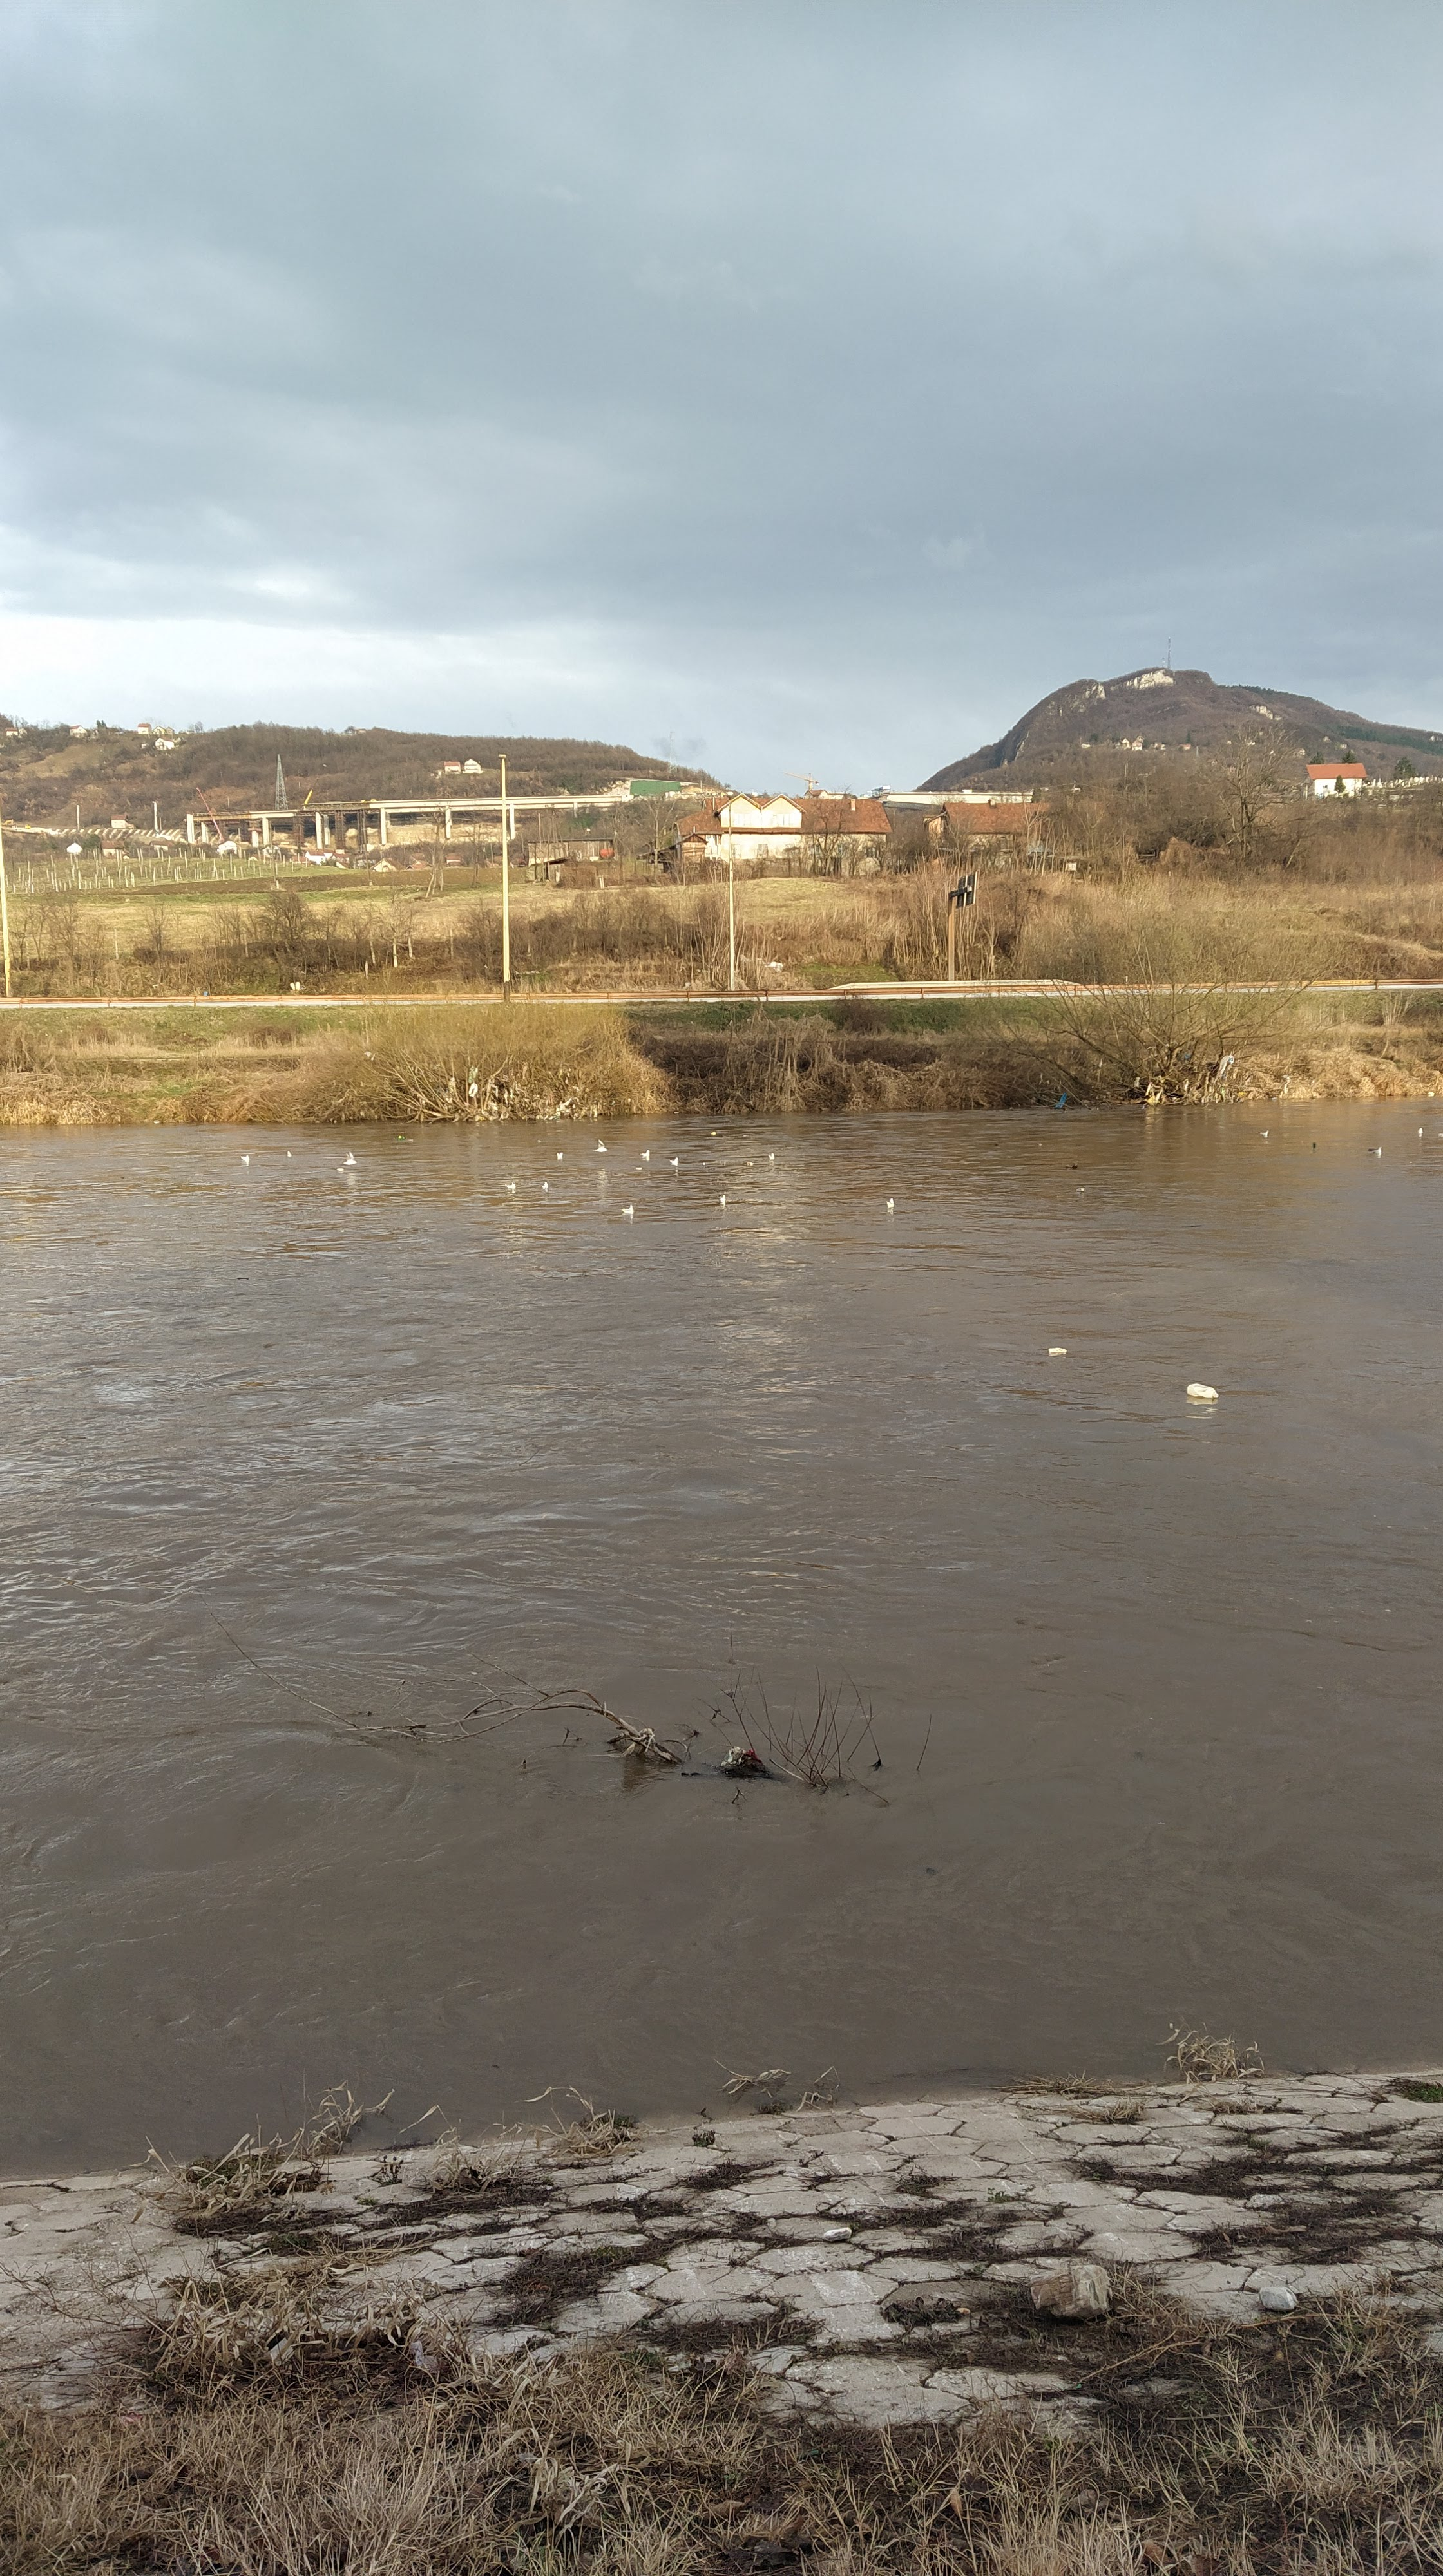Plastic Bottle: (1186, 1384, 1218, 1399), (1048, 1346, 1068, 1353), (1310, 1141, 1317, 1148), (395, 1134, 404, 1139), (1071, 1162, 1078, 1168), (1078, 1189, 1084, 1191)
